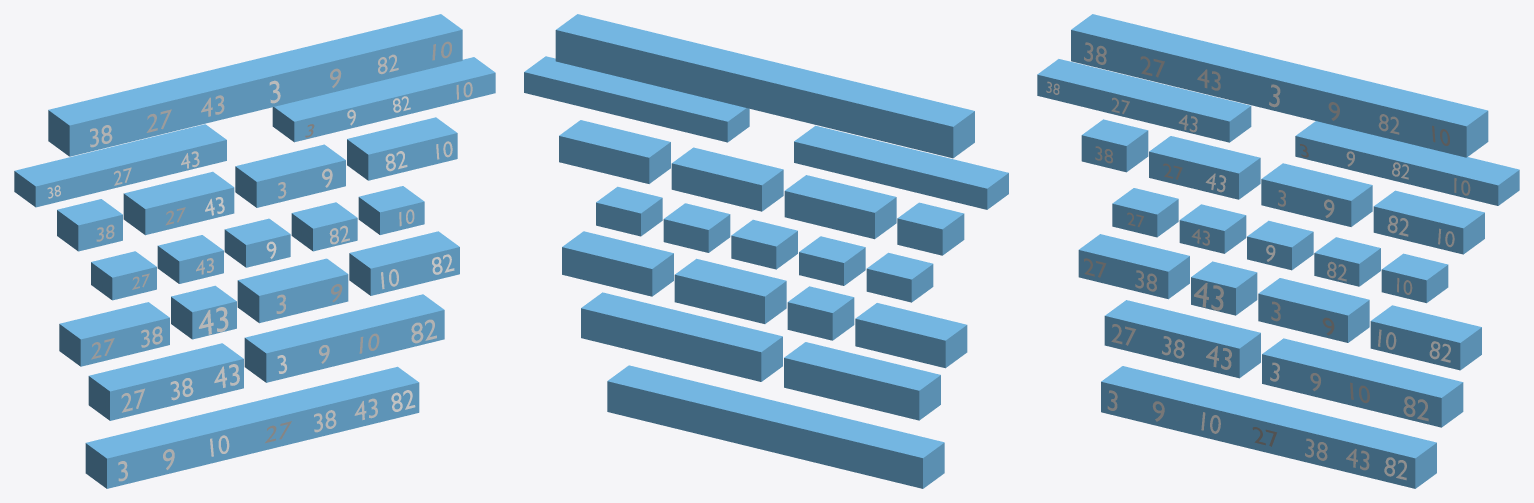
Rendered from merge_sort .glb.
The picture shows the model from 3 angles, left to right: view 1: azimuth 30°, elevation 25°; view 2: azimuth 150°, elevation 25°; view 3: azimuth 330°, elevation 25°; orthographic projection.
Visible parts, largest first — view 1: Cube, Cube.018, Cube.017, Cube.002, Cube.001, Cube.016, Cube.014, Cube.015, Cube.012, Cube.005, Cube.004, Cube.006 (+7 smaller); view 2: Cube, Cube.018, Cube.017, Cube.001, Cube.002, Cube.016, Cube.012, Cube.014, Cube.015, Cube.004, Cube.005, Cube.006 (+7 smaller); view 3: Cube, Cube.018, Cube.017, Cube.002, Cube.001, Cube.016, Cube.014, Cube.015, Cube.012, Cube.005, Cube.004, Cube.006 (+7 smaller).
Part boxes in pixels (x1,y1,x2,y2): Cube: (48, 14, 462, 156); Cube.018: (85, 366, 419, 488); Cube.017: (244, 294, 444, 382); Cube.002: (272, 57, 495, 142); Cube.001: (14, 124, 226, 207); Cube.016: (88, 343, 243, 420); Cube.014: (237, 258, 348, 323); Cube.015: (349, 231, 459, 295); Cube.012: (59, 302, 169, 366); Cube.005: (235, 144, 345, 207); Cube.004: (123, 171, 234, 235); Cube.006: (347, 117, 457, 180); Cube: (555, 14, 974, 158); Cube.018: (607, 365, 944, 488); Cube.017: (581, 292, 782, 381); Cube.001: (794, 125, 1008, 209); Cube.002: (524, 56, 749, 142); Cube.016: (784, 342, 940, 420); Cube.012: (855, 303, 967, 368); Cube.014: (674, 258, 786, 323); Cube.015: (562, 231, 673, 296); Cube.004: (784, 175, 896, 239); Cube.005: (671, 147, 783, 211); Cube.006: (559, 120, 670, 183); Cube: (1071, 14, 1488, 157); Cube.018: (1101, 366, 1436, 488); Cube.017: (1262, 338, 1463, 427); Cube.002: (1295, 121, 1519, 205); Cube.001: (1037, 59, 1251, 142); Cube.016: (1104, 300, 1260, 378); Cube.014: (1258, 278, 1369, 342); Cube.015: (1370, 305, 1481, 370); Cube.012: (1078, 234, 1189, 299); Cube.005: (1261, 163, 1372, 226); Cube.004: (1149, 136, 1260, 199); Cube.006: (1373, 190, 1484, 254).
Bounding box in the file's own units: 24.69 × 18.96 × 2.91.
